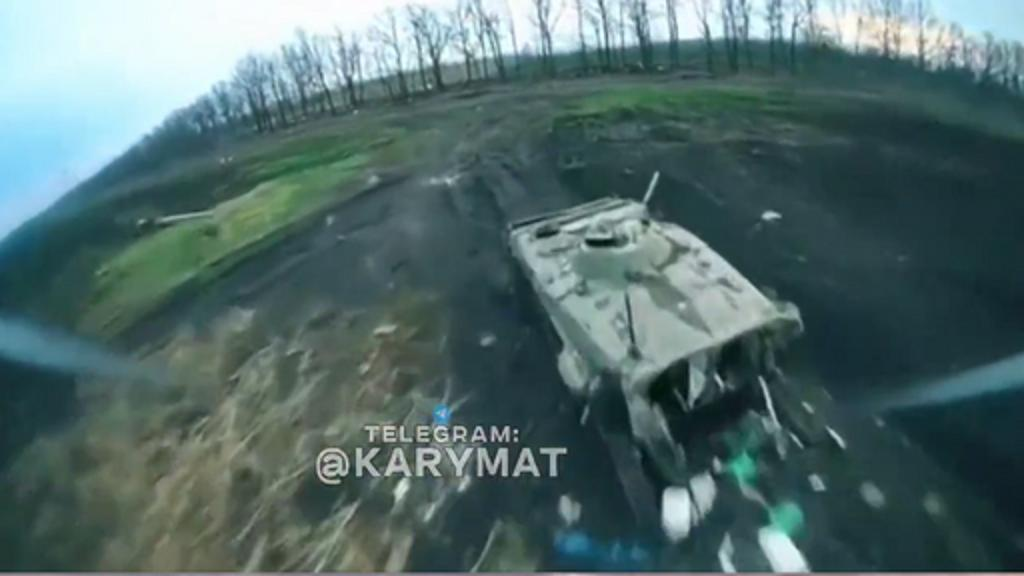APC-IFV: (490, 178, 798, 448)
